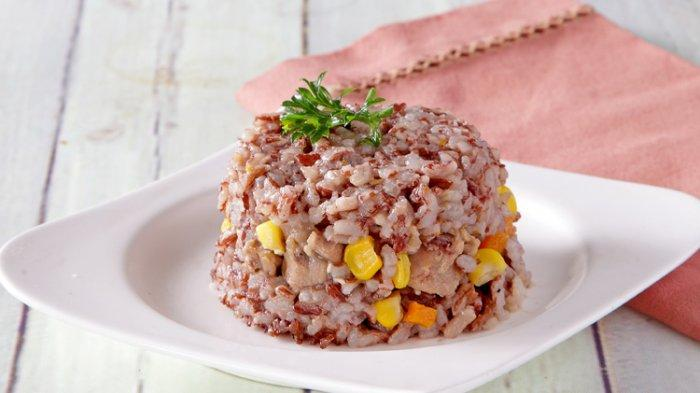Nasi Merah: (207, 90, 542, 352)
